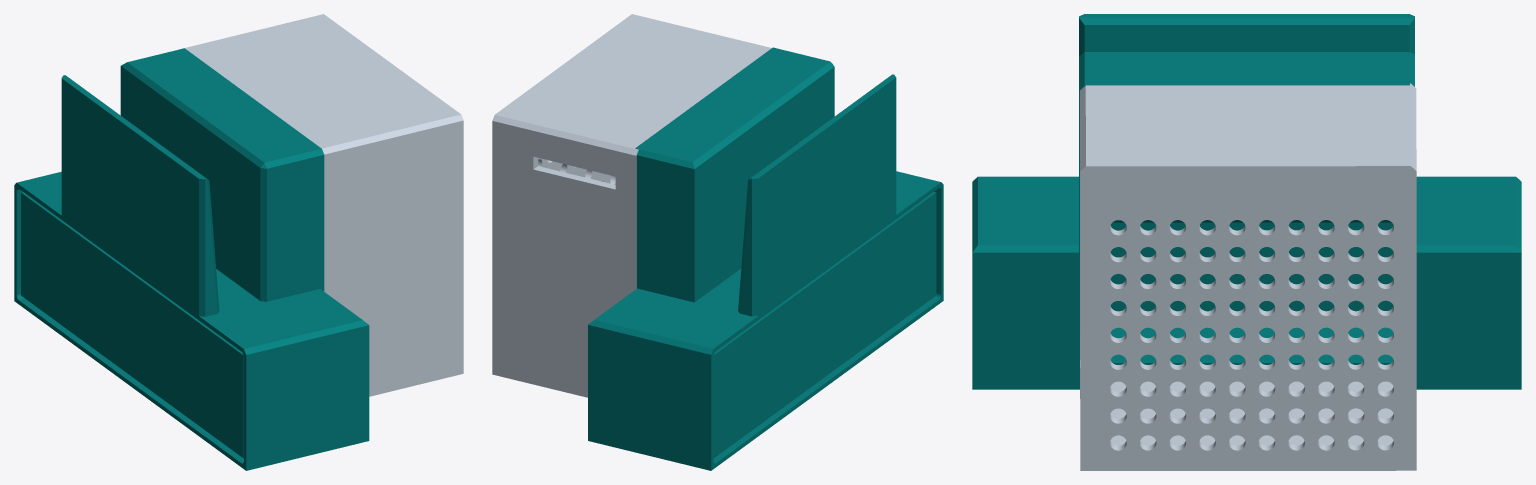
The model's file is TheSpeaker.glb.
3 views of the same model, side by side, from view 1: azimuth 30°, elevation 25°; view 2: azimuth 150°, elevation 25°; view 3: azimuth 270°, elevation 25° (orthographic). The views are drawn at different scales.
Parts seen in each view (by area): view 1: Cut; view 2: Cut; view 3: Cut.
Part boxes in pixels (x1,y1,x2,y2): Cut: (14, 14, 463, 470); Cut: (492, 14, 943, 470); Cut: (972, 14, 1521, 470).
Bounding box in the file's own units: 0.0642 × 0.0601 × 0.098.
